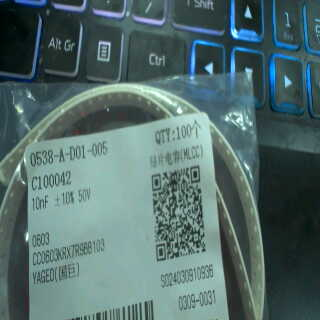10nF: (31, 194, 52, 213)
